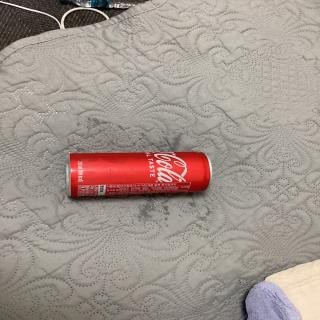cocacola: (64, 148, 216, 196)
